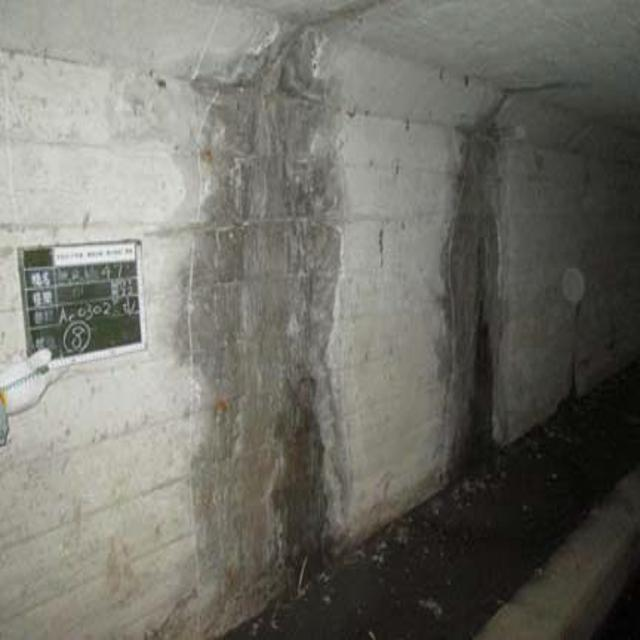leakage: (176, 22, 344, 604), (443, 76, 513, 478)
